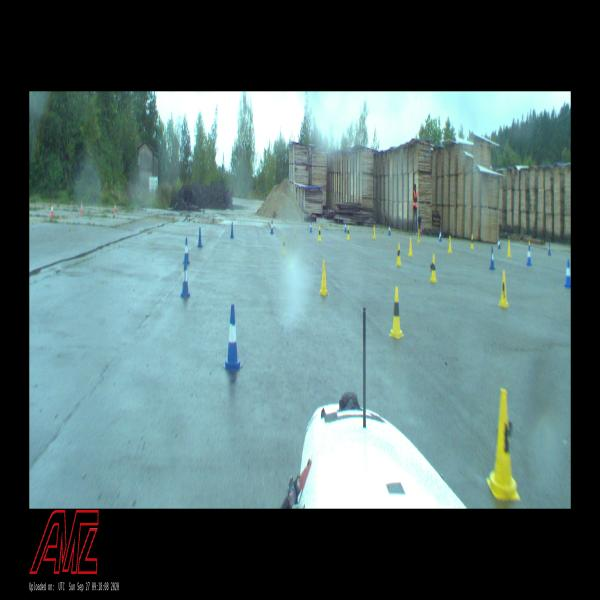blue_cone: (224, 306, 242, 372), (180, 260, 190, 298), (564, 260, 571, 288), (183, 238, 190, 265), (526, 245, 532, 266), (490, 246, 495, 270), (198, 227, 202, 248), (230, 222, 235, 238), (547, 241, 551, 256), (270, 220, 274, 234), (439, 228, 442, 242), (388, 222, 391, 236), (344, 220, 347, 232), (309, 220, 312, 231), (498, 237, 500, 249)
orange_cone: (50, 202, 54, 217), (80, 202, 83, 215), (114, 202, 116, 213)
yellow_cone: (487, 390, 520, 502), (389, 286, 404, 339), (498, 272, 509, 308), (320, 259, 328, 296), (430, 255, 436, 282), (396, 242, 402, 266), (408, 239, 413, 257), (282, 235, 286, 254), (448, 235, 452, 254), (507, 240, 511, 258), (470, 233, 474, 250), (417, 228, 421, 243), (372, 225, 376, 239), (318, 226, 321, 242), (347, 226, 350, 241)
